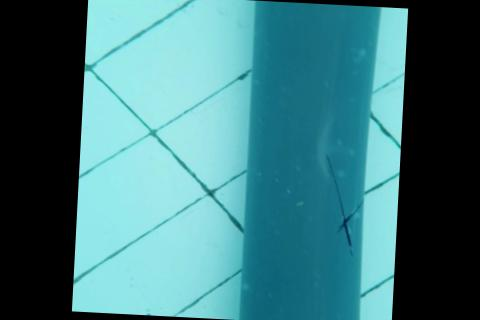keretakan: (320, 153, 367, 255)
